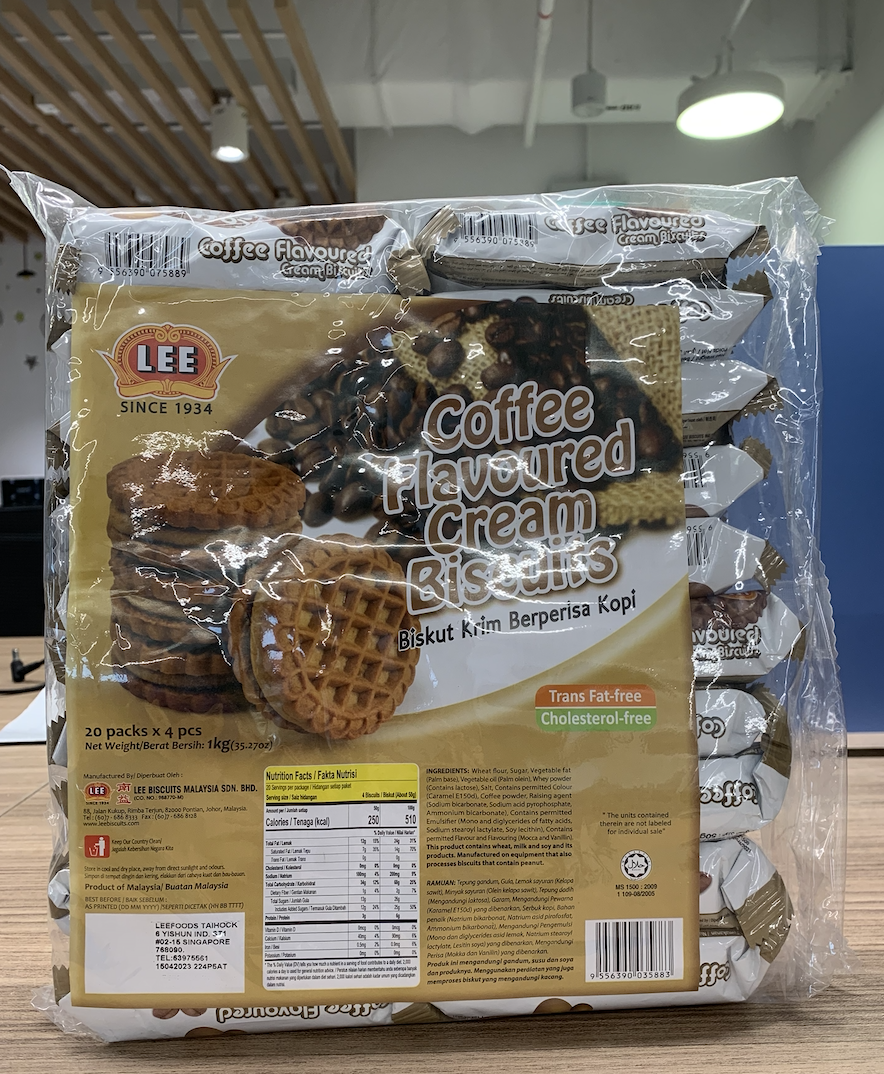halal: (626, 854, 647, 877)
